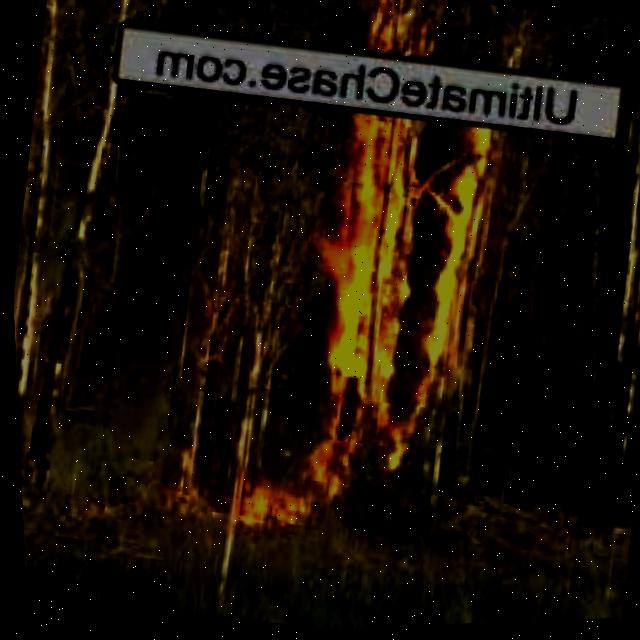Fire: (289, 109, 512, 484), (211, 477, 334, 543), (347, 0, 442, 66)
